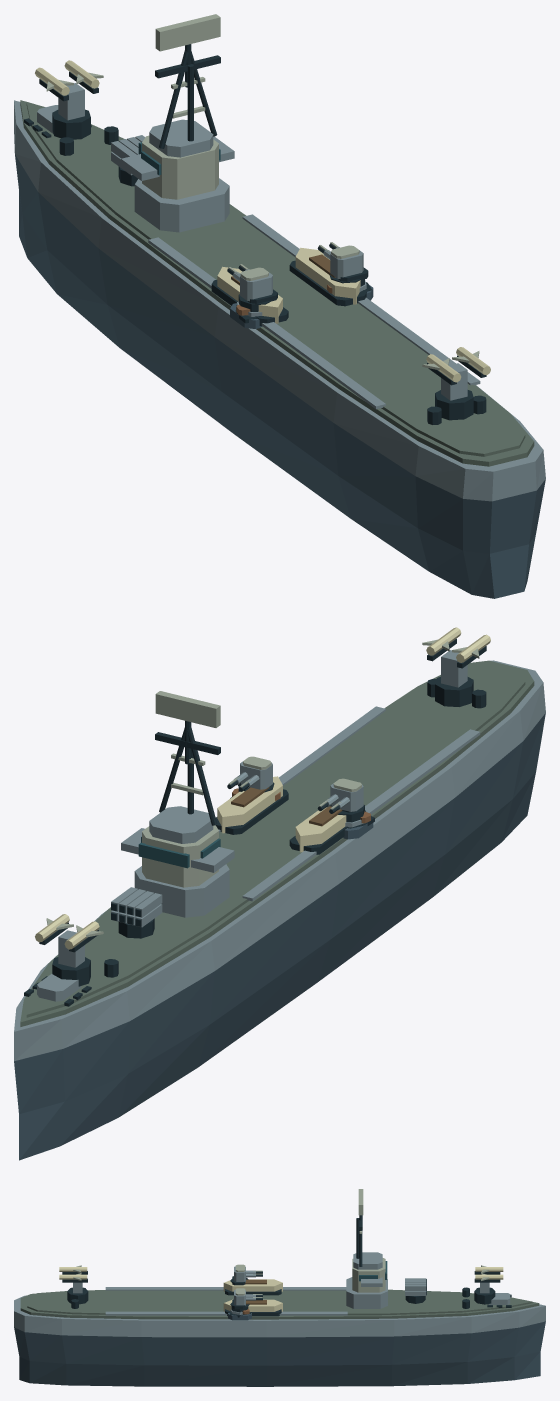
The model's file is historic-bainbridge-nuclear.glb.
3 renders of one model, top to bottom at view 1: azimuth 30°, elevation 25°; view 2: azimuth 150°, elevation 25°; view 3: azimuth 270°, elevation 25°, orthographic. The views are drawn at different scales.
Visible parts, largest first — view 1: historic-bainbridge-nuclear-historic-bainbridge-nuclear-geom, historic-bainbridge-nuclear-part_bridge.112-geometry, historic-bainbridge-nuclear-naval_launcher_0.006-geometry, historic-bainbridge-nuclear-naval_launcher_1.004-geometry, historic-bainbridge-nuclear-turret_aa_aa-port.114-geometry, historic-bainbridge-nuclear-turret_aa_aa-starboard.110-geome, historic-bainbridge-nuclear-naval_launcher_2.003-geometry; view 2: historic-bainbridge-nuclear-historic-bainbridge-nuclear-geom, historic-bainbridge-nuclear-part_bridge.112-geometry, historic-bainbridge-nuclear-naval_launcher_1.004-geometry, historic-bainbridge-nuclear-naval_launcher_0.006-geometry, historic-bainbridge-nuclear-naval_launcher_2.003-geometry, historic-bainbridge-nuclear-turret_aa_aa-port.114-geometry, historic-bainbridge-nuclear-turret_aa_aa-starboard.110-geome; view 3: historic-bainbridge-nuclear-historic-bainbridge-nuclear-geom, historic-bainbridge-nuclear-part_bridge.112-geometry, historic-bainbridge-nuclear-naval_launcher_0.006-geometry, historic-bainbridge-nuclear-naval_launcher_1.004-geometry, historic-bainbridge-nuclear-naval_launcher_2.003-geometry, historic-bainbridge-nuclear-turret_aa_aa-starboard.110-geome, historic-bainbridge-nuclear-turret_aa_aa-port.114-geometry.
Boxes of the visible parts, x1,y1,x2,y2 form: historic-bainbridge-nuclear-historic-bainbridge-nuclear-geom: (14,100,545,598); historic-bainbridge-nuclear-part_bridge.112-geometry: (121,14,234,232); historic-bainbridge-nuclear-naval_launcher_0.006-geometry: (35,60,103,139); historic-bainbridge-nuclear-naval_launcher_1.004-geometry: (422,347,490,420); historic-bainbridge-nuclear-turret_aa_aa-port.114-geometry: (227,264,277,311); historic-bainbridge-nuclear-turret_aa_aa-starboard.110-geome: (317,242,368,286); historic-bainbridge-nuclear-naval_launcher_2.003-geometry: (111,135,144,186); historic-bainbridge-nuclear-historic-bainbridge-nuclear-geom: (14,660,545,1160); historic-bainbridge-nuclear-part_bridge.112-geometry: (121,691,234,917); historic-bainbridge-nuclear-naval_launcher_1.004-geometry: (422,627,490,706); historic-bainbridge-nuclear-naval_launcher_0.006-geometry: (35,914,103,986); historic-bainbridge-nuclear-naval_launcher_2.003-geometry: (111,887,162,938); historic-bainbridge-nuclear-turret_aa_aa-port.114-geometry: (317,778,364,822); historic-bainbridge-nuclear-turret_aa_aa-starboard.110-geome: (227,756,274,792); historic-bainbridge-nuclear-historic-bainbridge-nuclear-geom: (14,1279,545,1386); historic-bainbridge-nuclear-part_bridge.112-geometry: (346,1189,387,1308); historic-bainbridge-nuclear-naval_launcher_0.006-geometry: (474,1265,503,1304); historic-bainbridge-nuclear-naval_launcher_1.004-geometry: (59,1265,88,1304); historic-bainbridge-nuclear-naval_launcher_2.003-geometry: (405,1278,426,1303); historic-bainbridge-nuclear-turret_aa_aa-starboard.110-geome: (230,1288,262,1312); historic-bainbridge-nuclear-turret_aa_aa-port.114-geometry: (230,1264,262,1285).
Bounding box in the file's own units: 0.6525 × 1.6 × 4.32.
